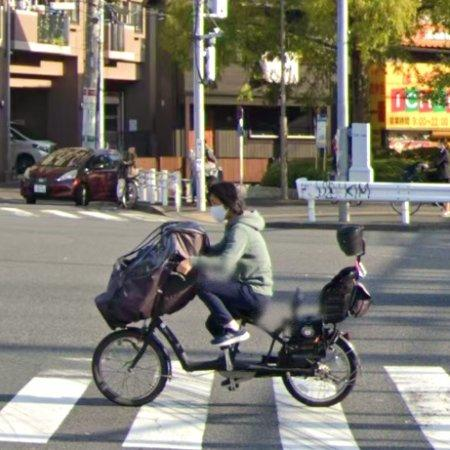crosswalks: (0, 363, 450, 450)
